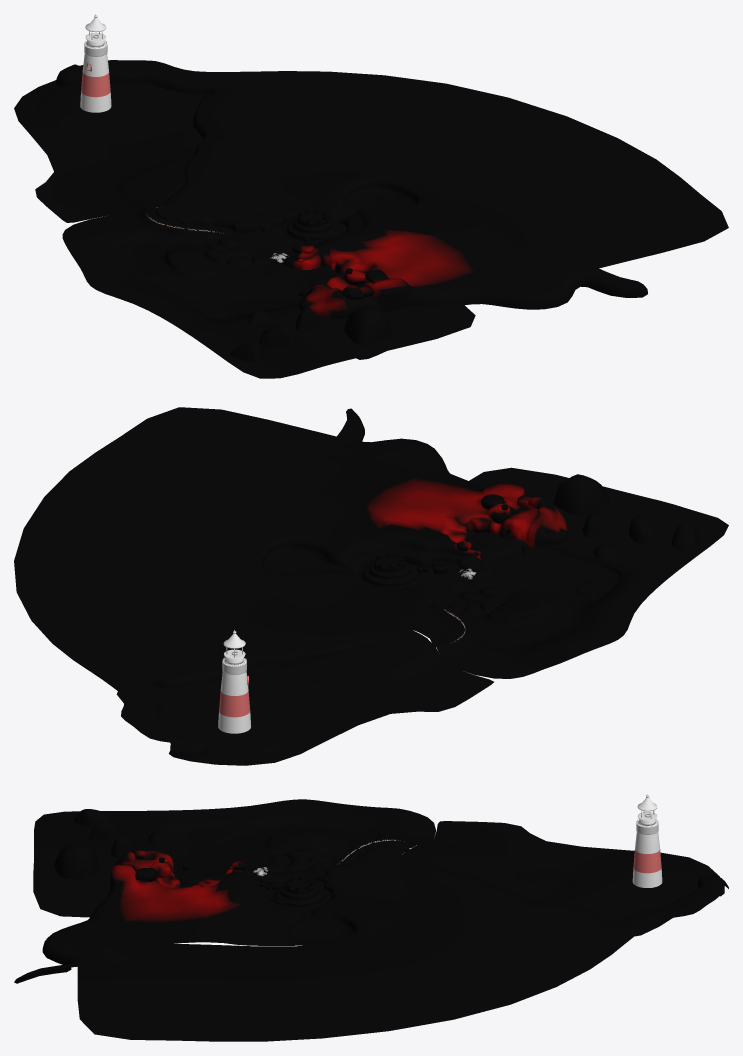
Rendered from beach.glb.
The picture shows the model from 3 angles, top to bottom: view 1: azimuth 30°, elevation 25°; view 2: azimuth 150°, elevation 25°; view 3: azimuth 270°, elevation 25°; orthographic projection. The views are drawn at different scales.
Parts seen in each view (by area): view 1: BeachRockDistance, BeachRock, BeachSand, BeachSandDistance, LightHouse; view 2: BeachRockDistance, BeachRock, BeachSand, BeachSandDistance, LightHouse; view 3: BeachRockDistance, BeachRock, BeachSand, BeachSandDistance, LightHouse.
Boxes of the visible parts, x1,y1,x2,y2 form: BeachRockDistance: (55,60,728,268); BeachRock: (156,171,647,363); BeachSand: (62,207,475,378); BeachSandDistance: (14,80,205,222); LightHouse: (80,14,111,112); BeachRockDistance: (14,407,428,759); BeachRock: (248,408,699,643); BeachSand: (355,467,728,678); BeachSandDistance: (116,640,493,765); LightHouse: (218,629,251,733); BeachRockDistance: (77,849,728,1041); BeachRock: (14,809,409,983); BeachSand: (33,799,435,917); BeachSandDistance: (409,821,724,936); LightHouse: (632,794,662,887).
Size of the model in its own units: 1225 by 227 by 1466.
Materials: 10 (1 with a texture image).
